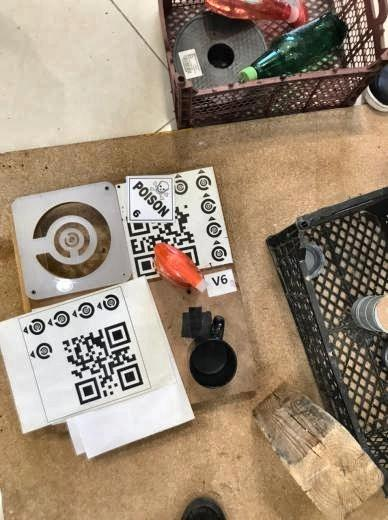poison: (126, 175, 174, 224)
